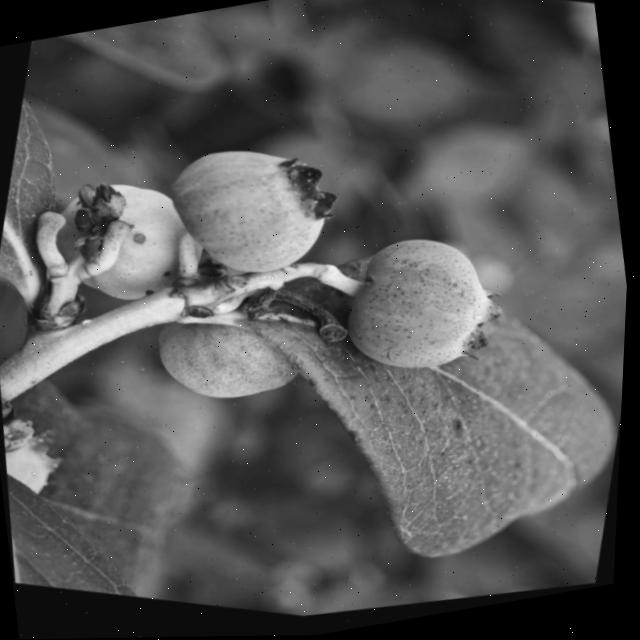RipeBlueBerry: (328, 215, 522, 404)
Semi-RipeBlueBerry: (150, 123, 349, 306)
